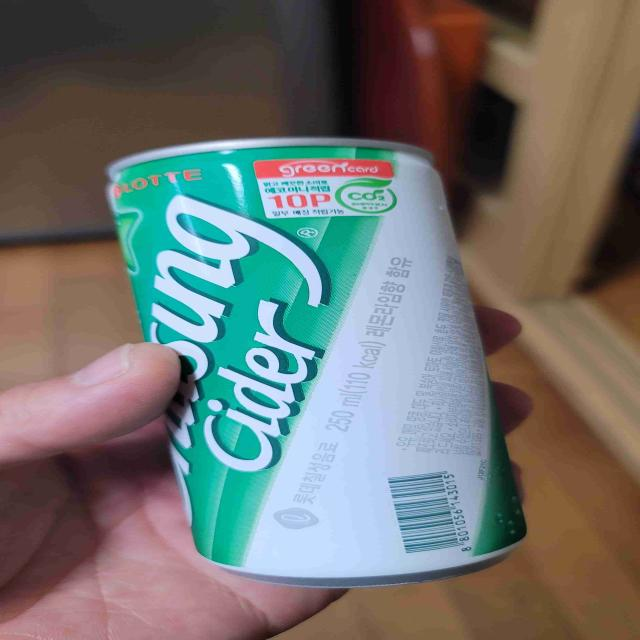can: (105, 137, 529, 589)
